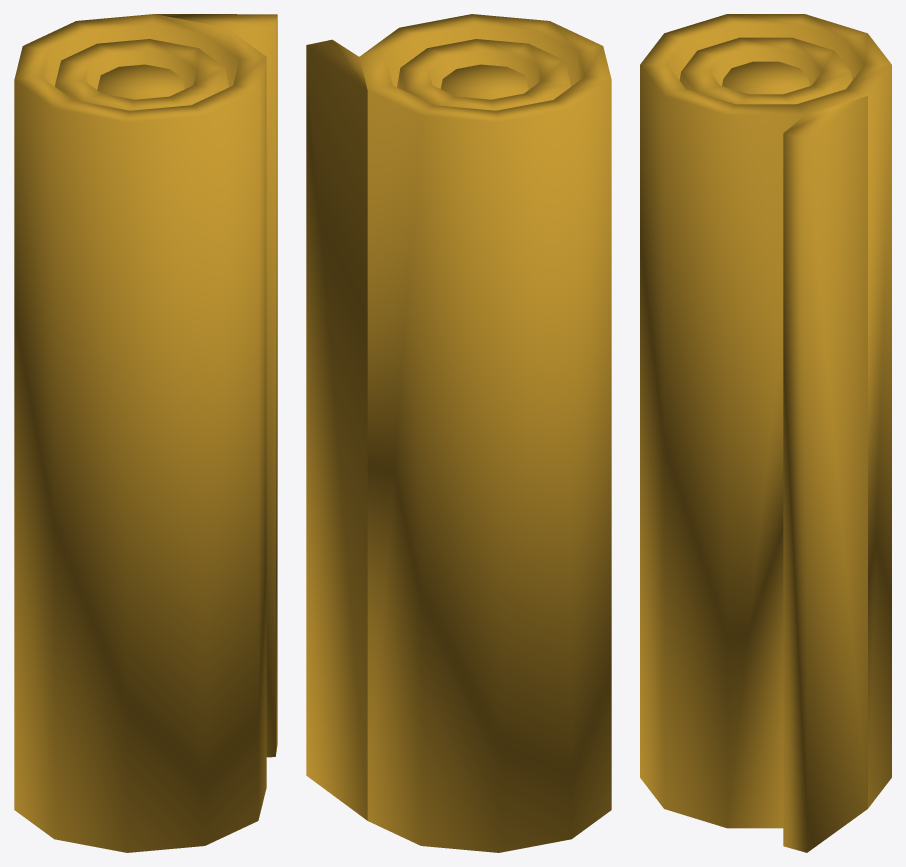
Rendered from rpgpp_ag_carpet_01d.fbx.
3 renders of one model, left to right at view 1: azimuth 30°, elevation 25°; view 2: azimuth 150°, elevation 25°; view 3: azimuth 270°, elevation 25°, orthographic. The views are drawn at different scales.
Visible parts, largest first — view 1: rpgpp_ag_carpet_01d; view 2: rpgpp_ag_carpet_01d; view 3: rpgpp_ag_carpet_01d.
Boxes of the visible parts, left/top/right/bottom form: rpgpp_ag_carpet_01d: left=14, top=14, right=277, bottom=852; rpgpp_ag_carpet_01d: left=306, top=14, right=611, bottom=852; rpgpp_ag_carpet_01d: left=640, top=14, right=891, bottom=852.
Size of the model in its own units: 0.3785 by 1 by 0.32.
